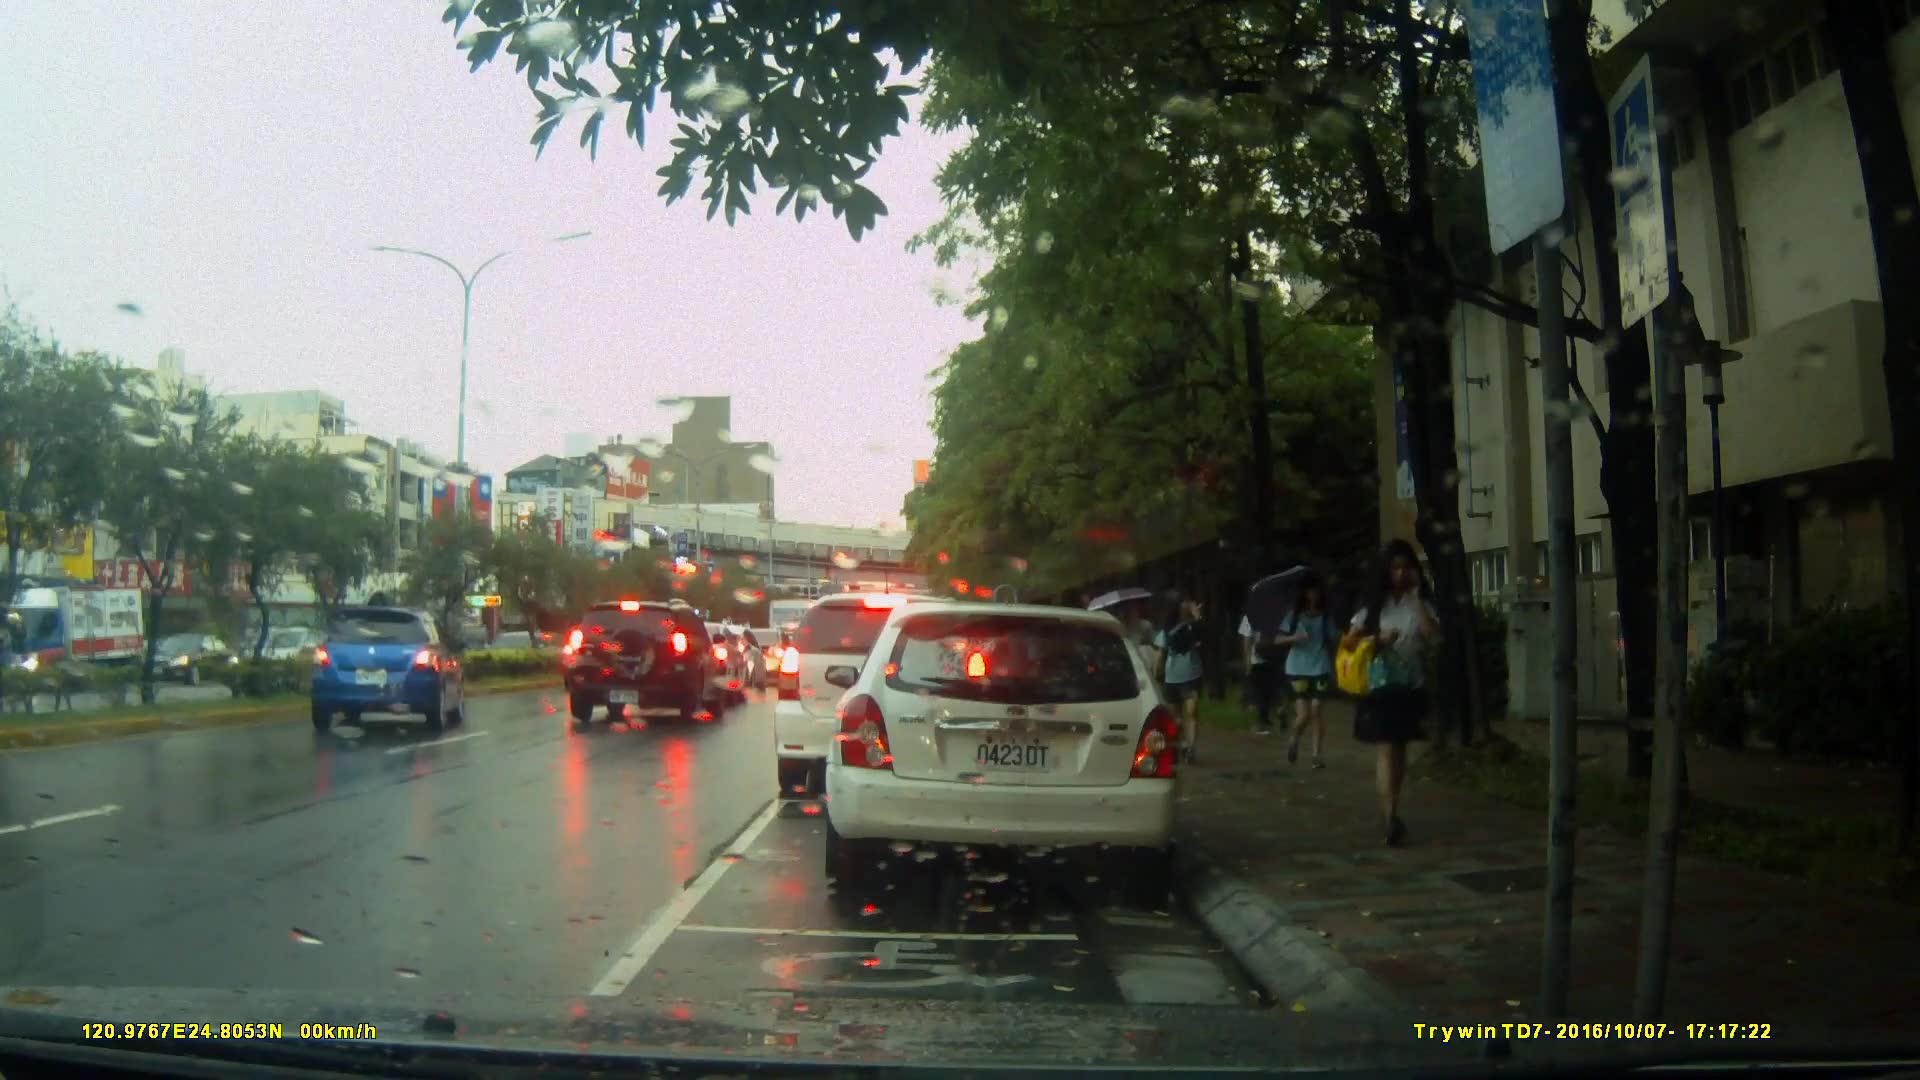pedestrian: (1355, 530, 1458, 850), (1274, 576, 1335, 776), (1158, 577, 1218, 760)
vehicle: (815, 593, 1204, 909), (771, 590, 995, 802), (561, 599, 730, 726), (308, 605, 466, 739), (1, 584, 150, 686)
